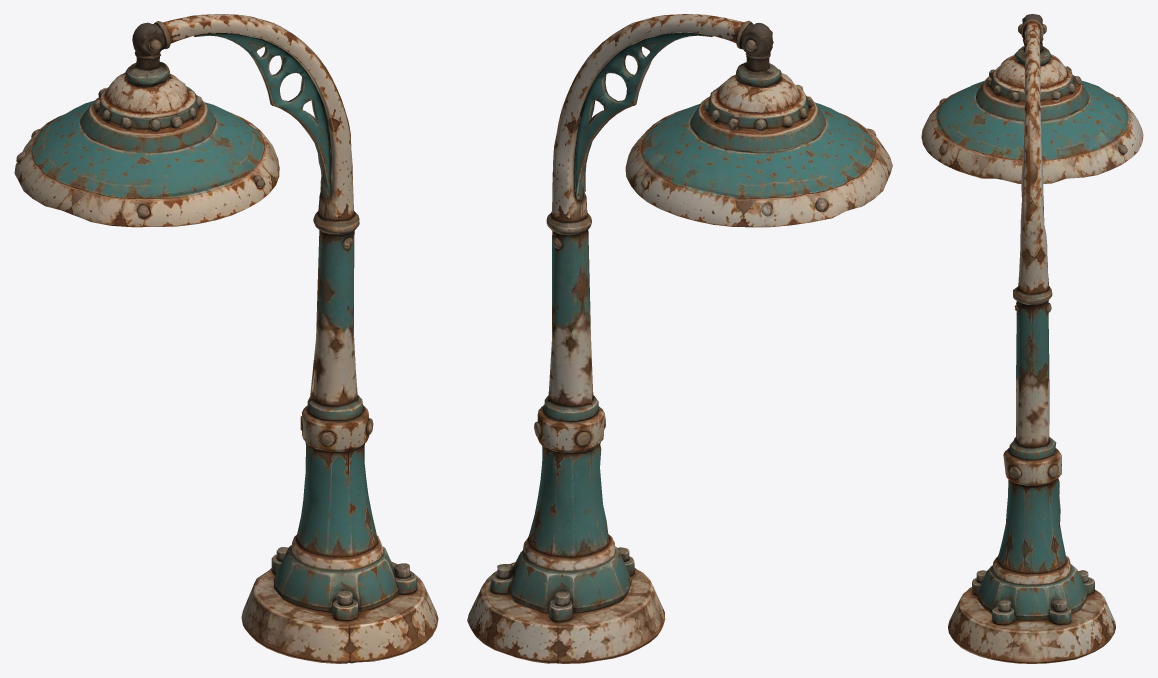
Rendered from town_streetlamp.glb.
3 renders of one model, left to right at view 1: azimuth 30°, elevation 25°; view 2: azimuth 150°, elevation 25°; view 3: azimuth 270°, elevation 25°, orthographic. The views are drawn at different scales.
Bounding box in the file's own units: 0.6049 × 0.9507 × 0.356.
1 material, 1 textured.
